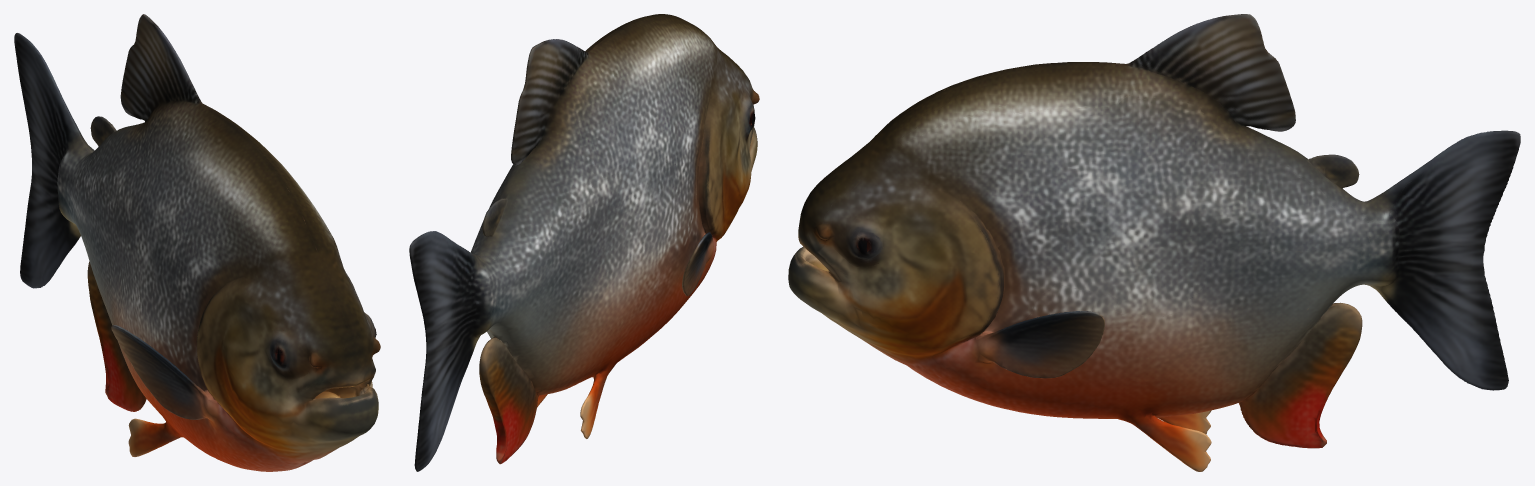
File: 17_piranha.glb
The picture shows the model from 3 angles, left to right: view 1: azimuth 30°, elevation 25°; view 2: azimuth 150°, elevation 25°; view 3: azimuth 270°, elevation 25°; orthographic projection. The views are drawn at different scales.
Visible parts, largest first — view 1: world; view 2: world; view 3: world.
Boxes of the visible parts, x1,y1,x2,y2 form: world: [14, 14, 380, 471]; world: [409, 14, 759, 471]; world: [788, 14, 1520, 471].
Size of the model in its own units: 0.3423 by 0.6669 by 1.
Materials: 1 (1 with a texture image).
